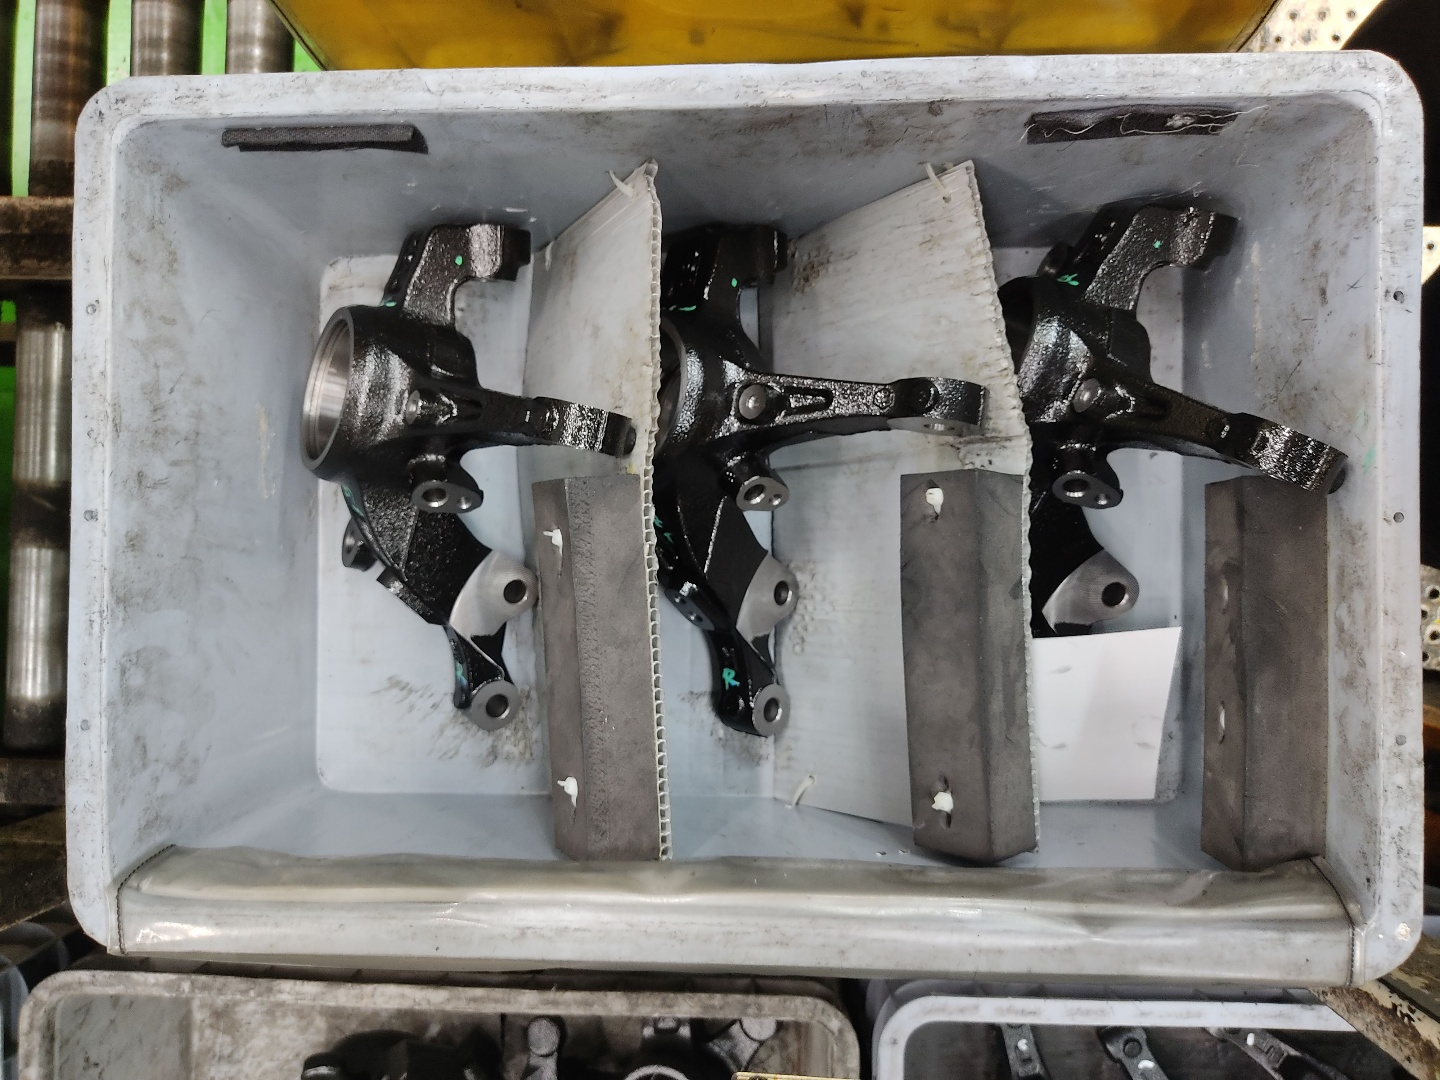abs-rh: (986, 188, 1358, 717), (649, 210, 996, 757), (294, 213, 639, 749)
